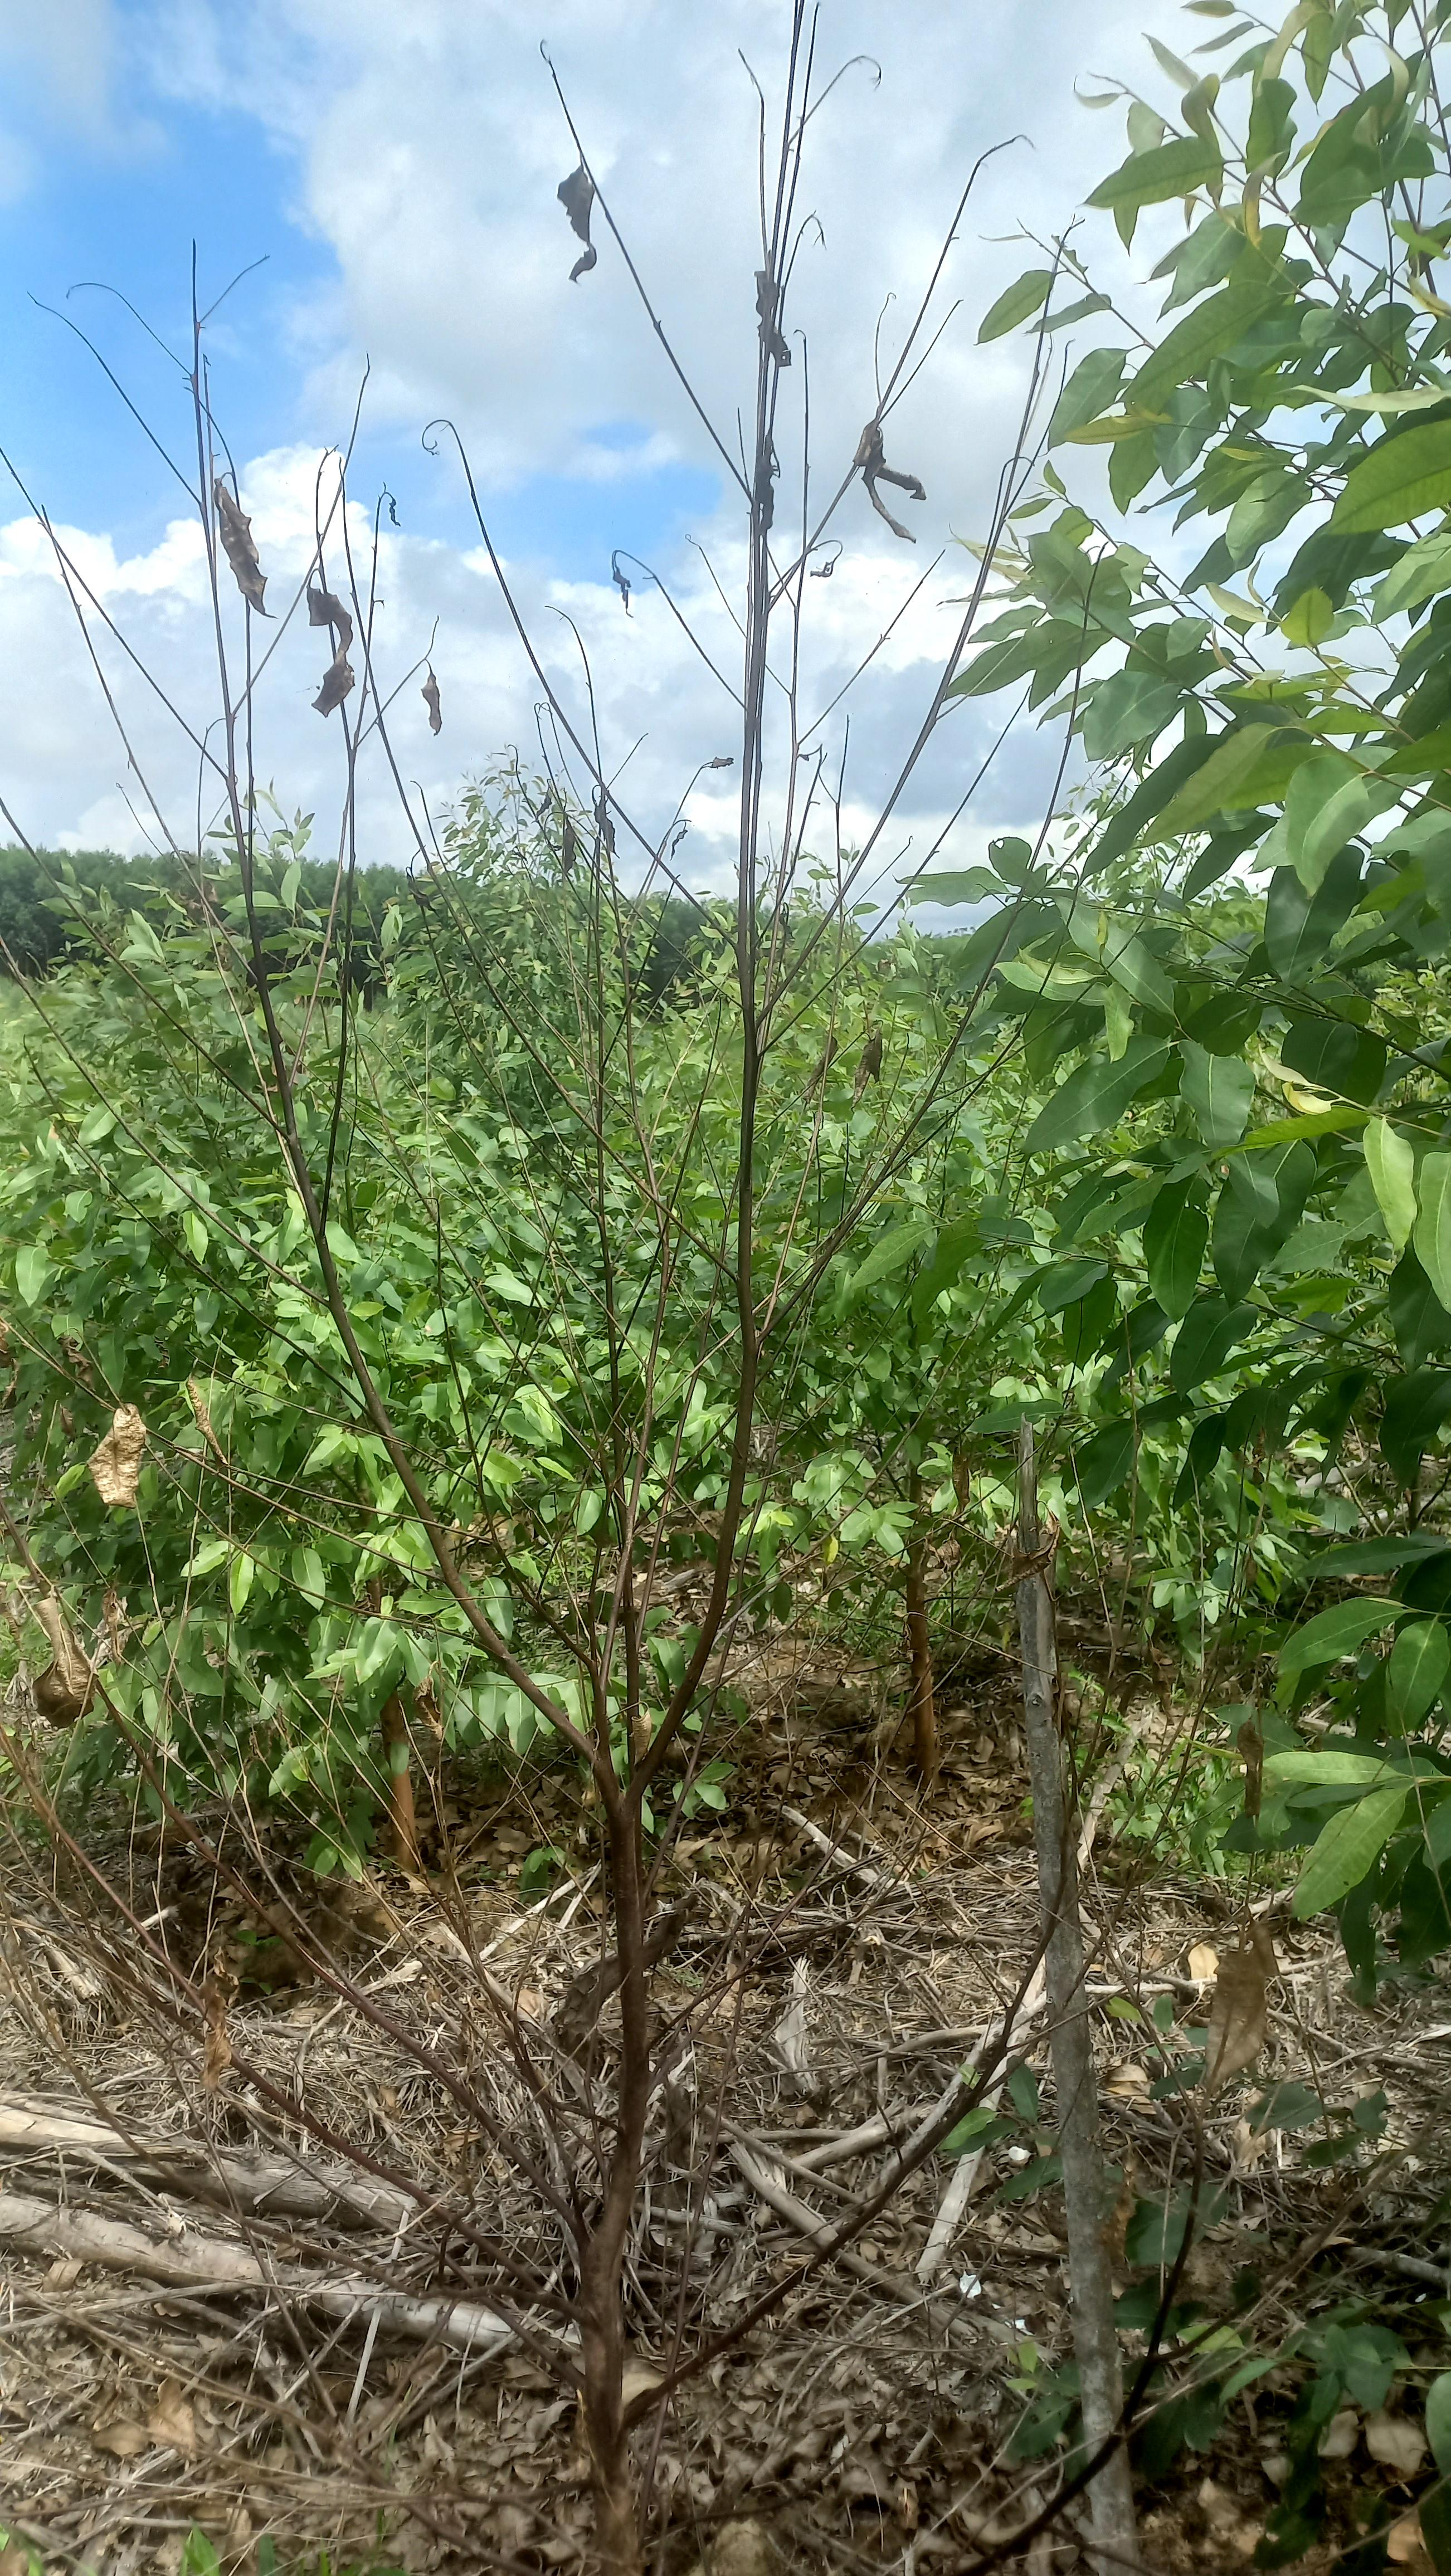Helopeltis-Withered Sprout: (1168, 1928, 1299, 2116), (338, 1679, 439, 1874), (856, 402, 941, 550), (16, 1592, 103, 1725), (191, 474, 278, 598), (982, 1486, 1081, 1592), (180, 1953, 244, 2105), (85, 1387, 166, 1506), (738, 237, 805, 380), (299, 582, 370, 715), (543, 778, 639, 876), (1207, 1707, 1271, 1840), (175, 1362, 241, 1481), (550, 156, 602, 272), (743, 400, 782, 531), (832, 1017, 885, 1108), (603, 548, 648, 623), (418, 663, 451, 734)
